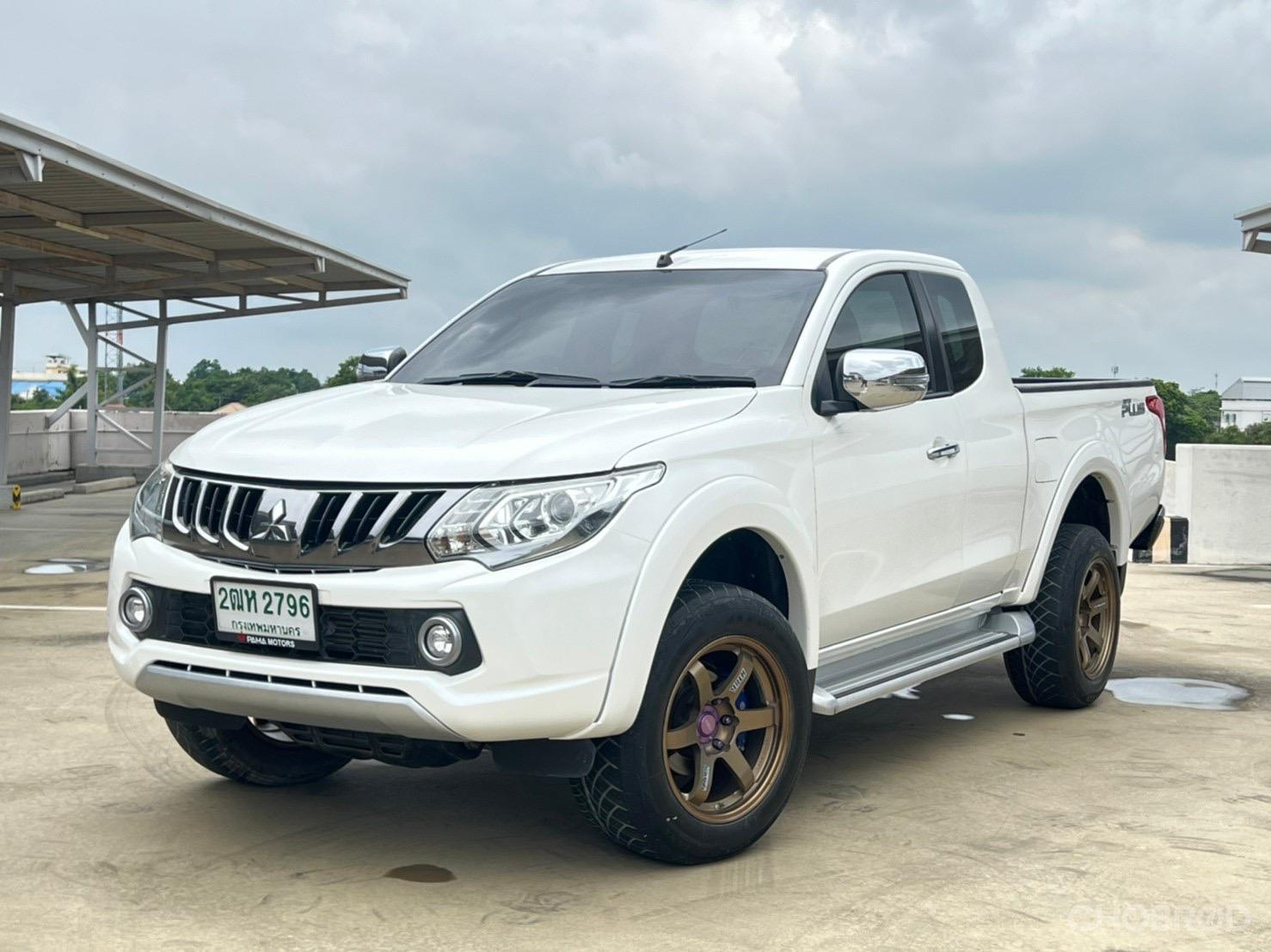license-plate: (207, 574, 324, 653)
